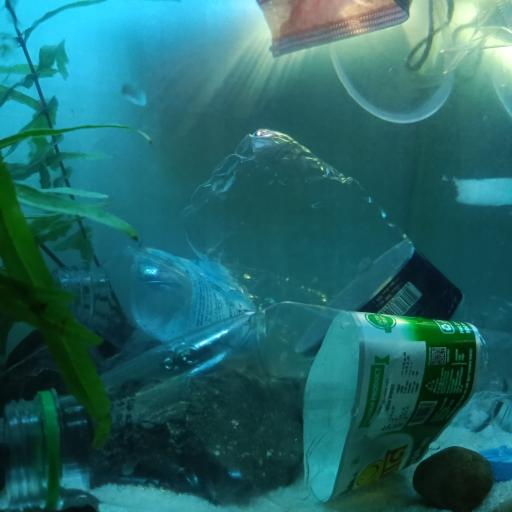mask: (254, 0, 455, 72)
plastic_bottle: (177, 125, 512, 432), (5, 300, 512, 500), (52, 247, 512, 371)
plastic_cup: (332, 0, 512, 125)
